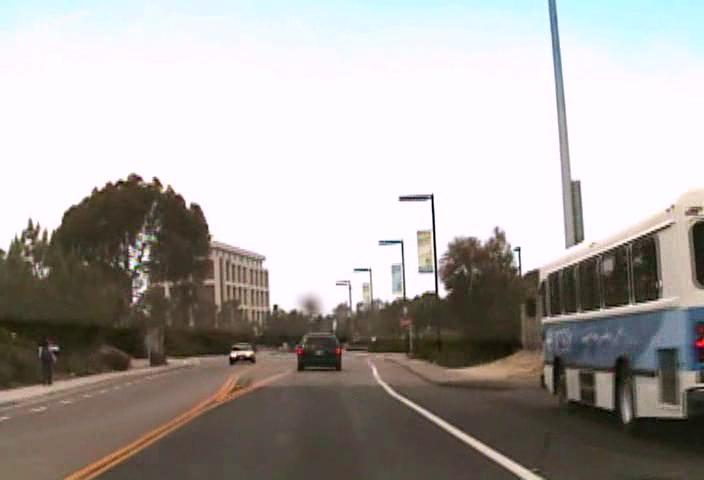stop: (398, 317, 410, 329)
